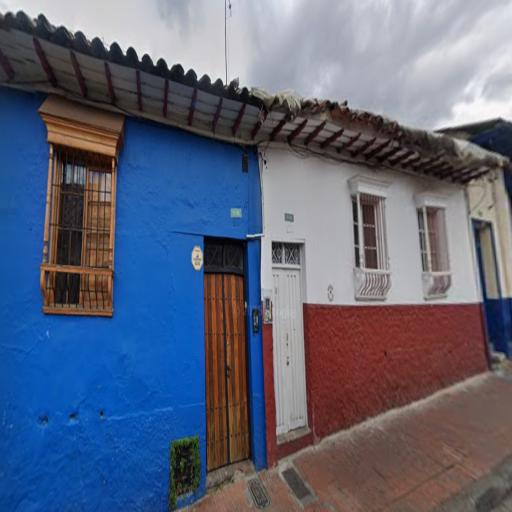Casa: (0, 89, 266, 511), (233, 124, 498, 465)
